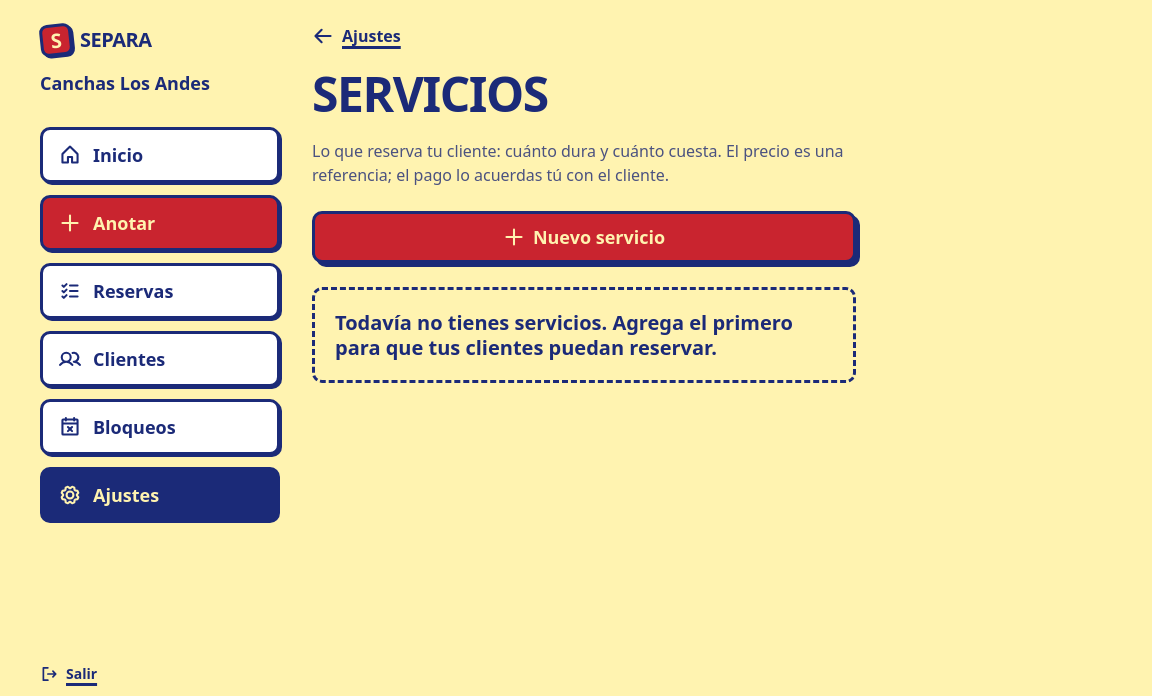
Test: adding a service › picks the only space by itself
Click the button "Nuevo servicio" at (584, 237), box [312,211,856,263]
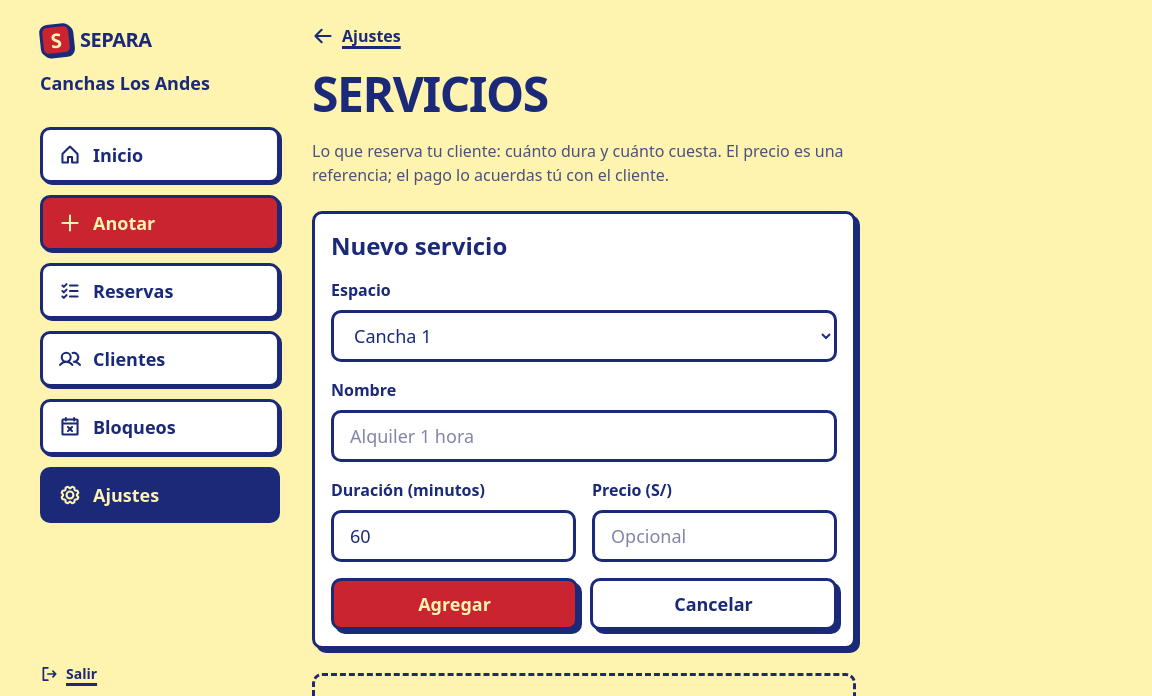
Check: the dropdown labelled "Espacio" shows "Cancha 1", box [331,310,837,362]
